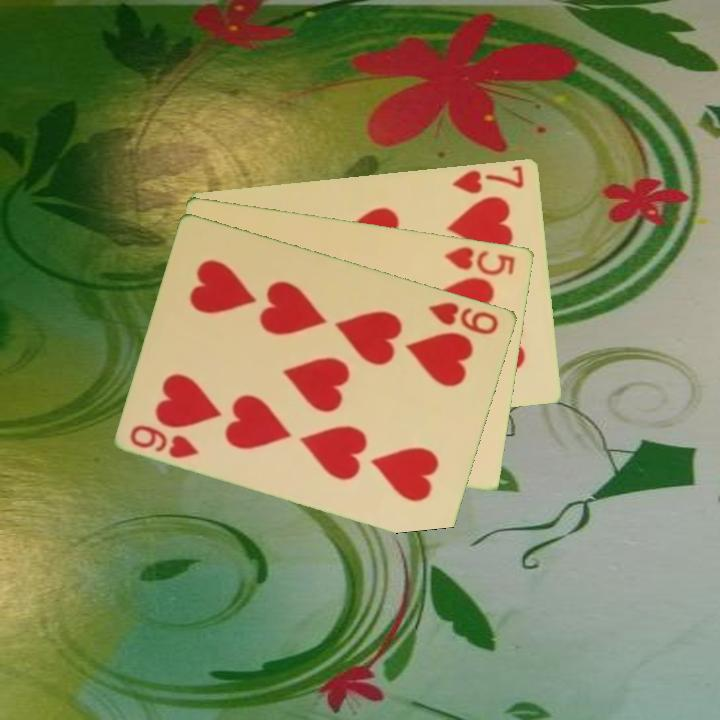5h: (441, 242, 518, 278)
7h: (450, 161, 527, 196)
9h: (425, 298, 502, 337), (127, 421, 202, 461)
